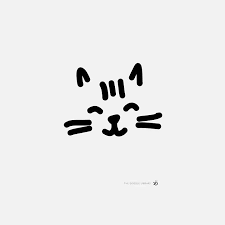cat: (43, 54, 183, 158)
